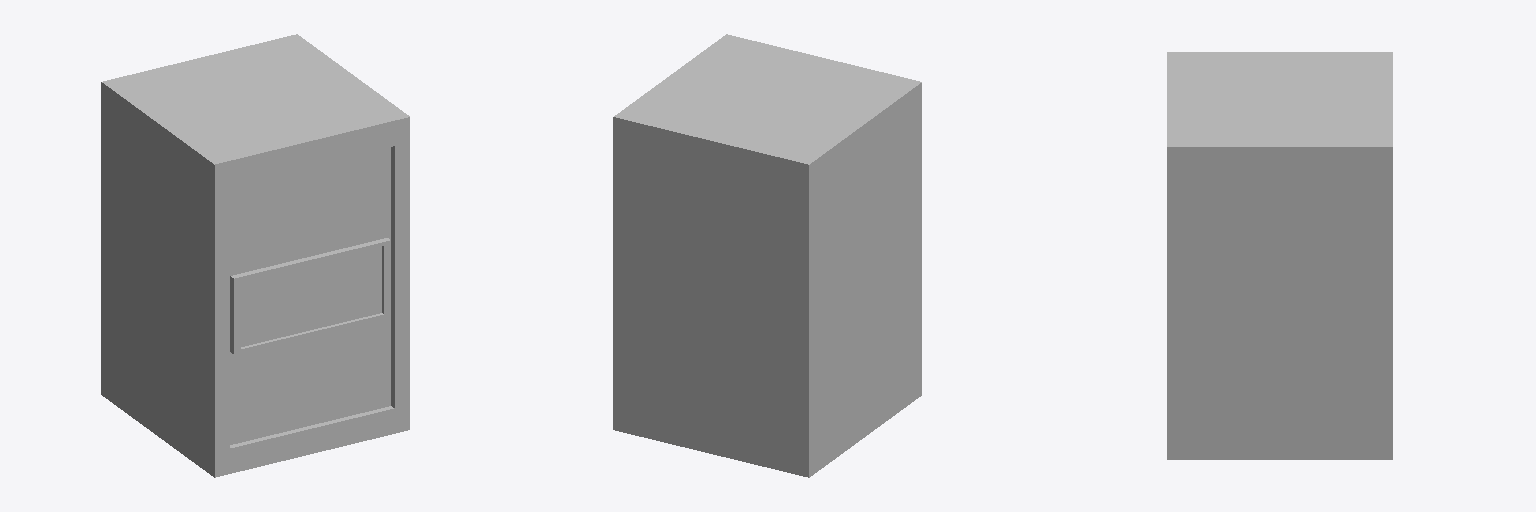
Rendered from apotheke-building.obj.
3 renders of one model, left to right at view 1: azimuth 30°, elevation 25°; view 2: azimuth 150°, elevation 25°; view 3: azimuth 270°, elevation 25°, orthographic.
Visible parts, largest first — view 1: Building; view 2: Building; view 3: Building.
Part boxes in pixels (left/top/right/bottom): Building: left=101, top=34, right=409, bottom=477; Building: left=613, top=34, right=921, bottom=477; Building: left=1167, top=52, right=1392, bottom=459.
Bounding box in the file's own units: 2 × 3.06 × 2.